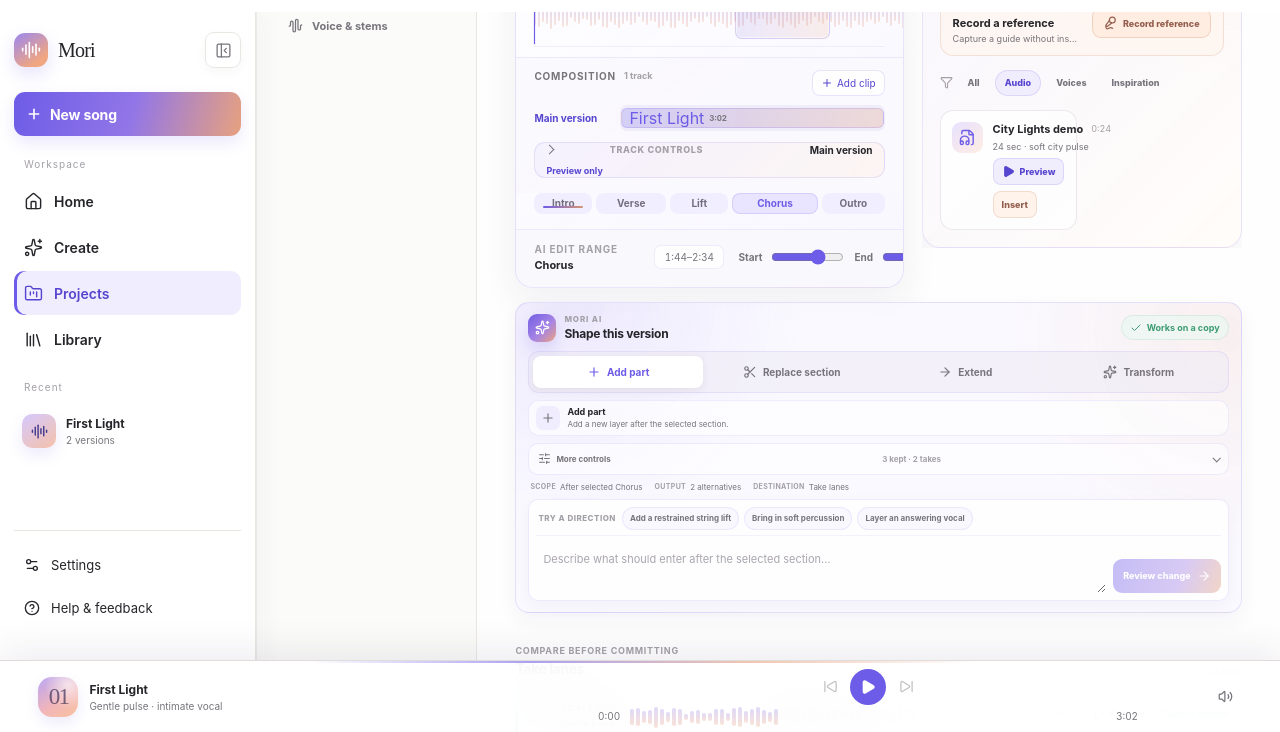
Test: Mori studio page › keeps the user's instruction while changing timeline context before review
(page scrolled)
Click the button "Replace section" at (792, 372), box [707, 356, 876, 388]
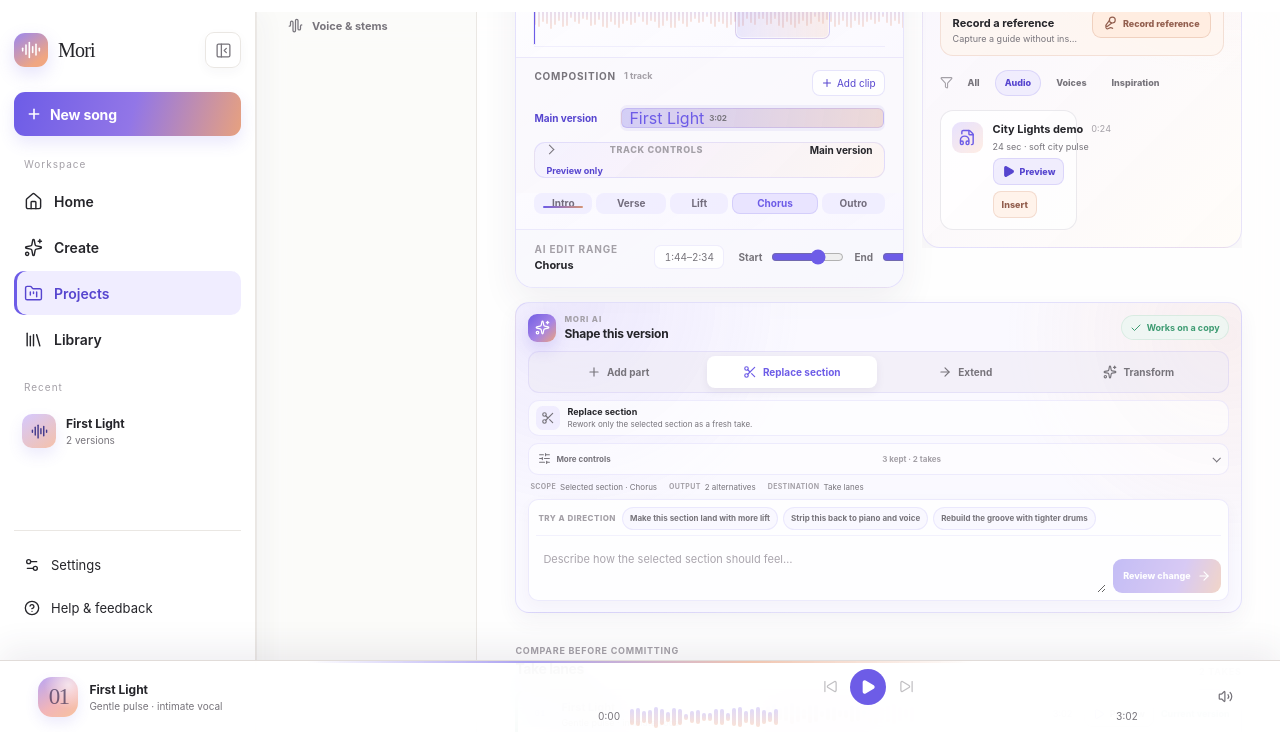
Type "Make this section breathe before the lift." into the text box named "Tell Mori what to change" at (821, 568), box [536, 543, 1106, 593]
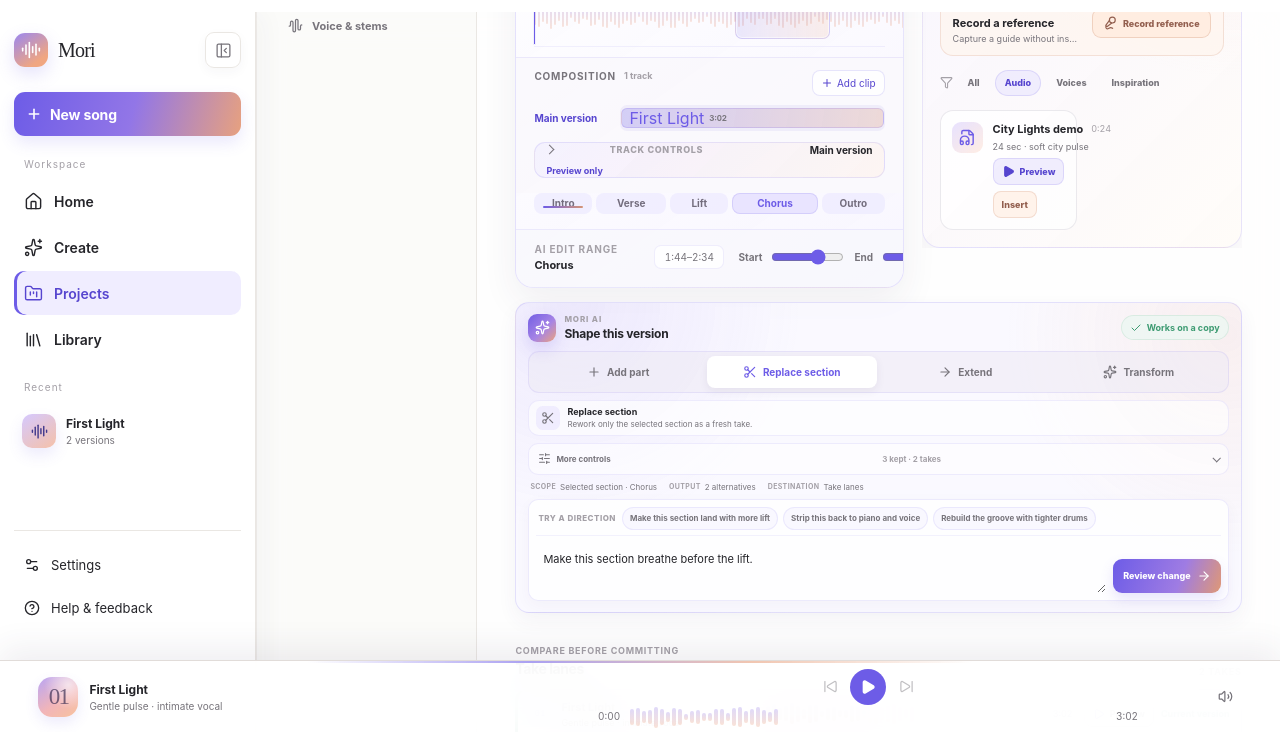
Click the button with aria-label "Select Verse section" at (631, 203), box [596, 192, 666, 214]
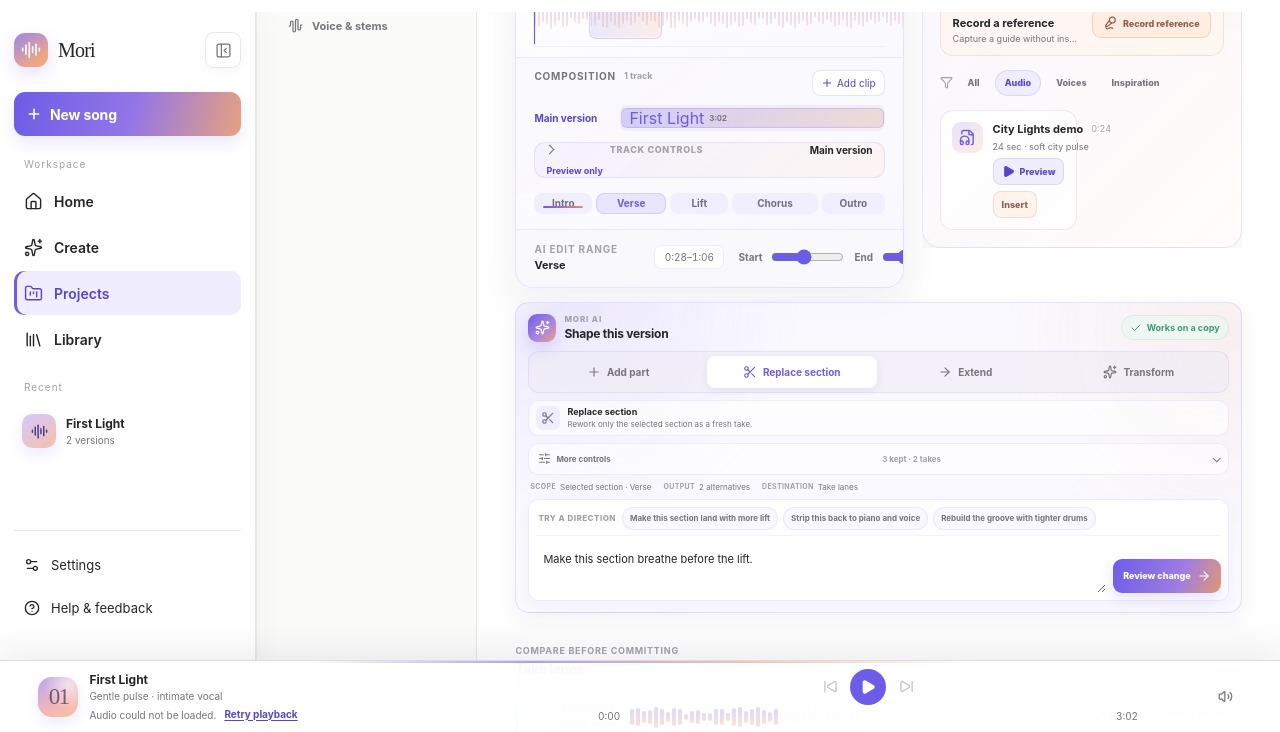
Result: the text "Selected section · Verse" is shown at [560, 482, 651, 492]
